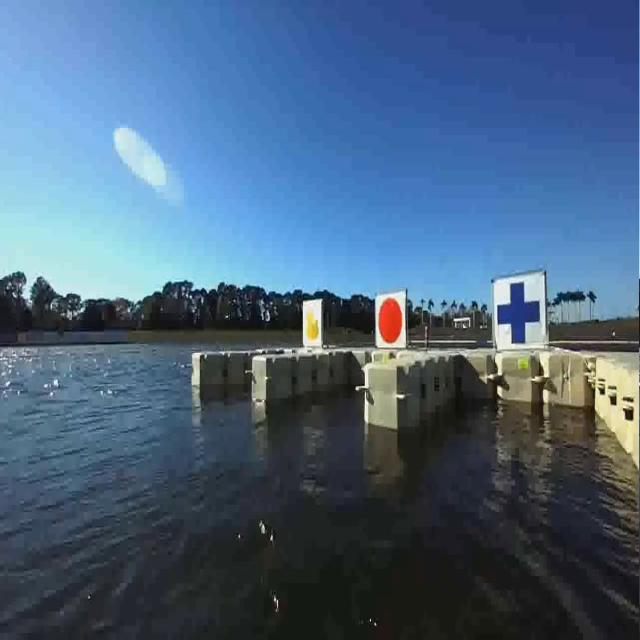blue-cross: (491, 270, 548, 344)
red-dot: (373, 294, 408, 349)
yellow-duck: (303, 299, 321, 351)
